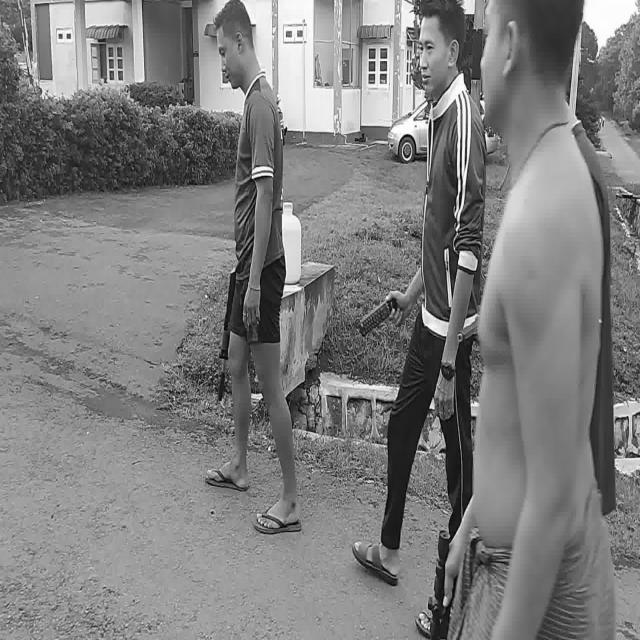gun: (218, 269, 235, 401), (459, 317, 477, 345)
